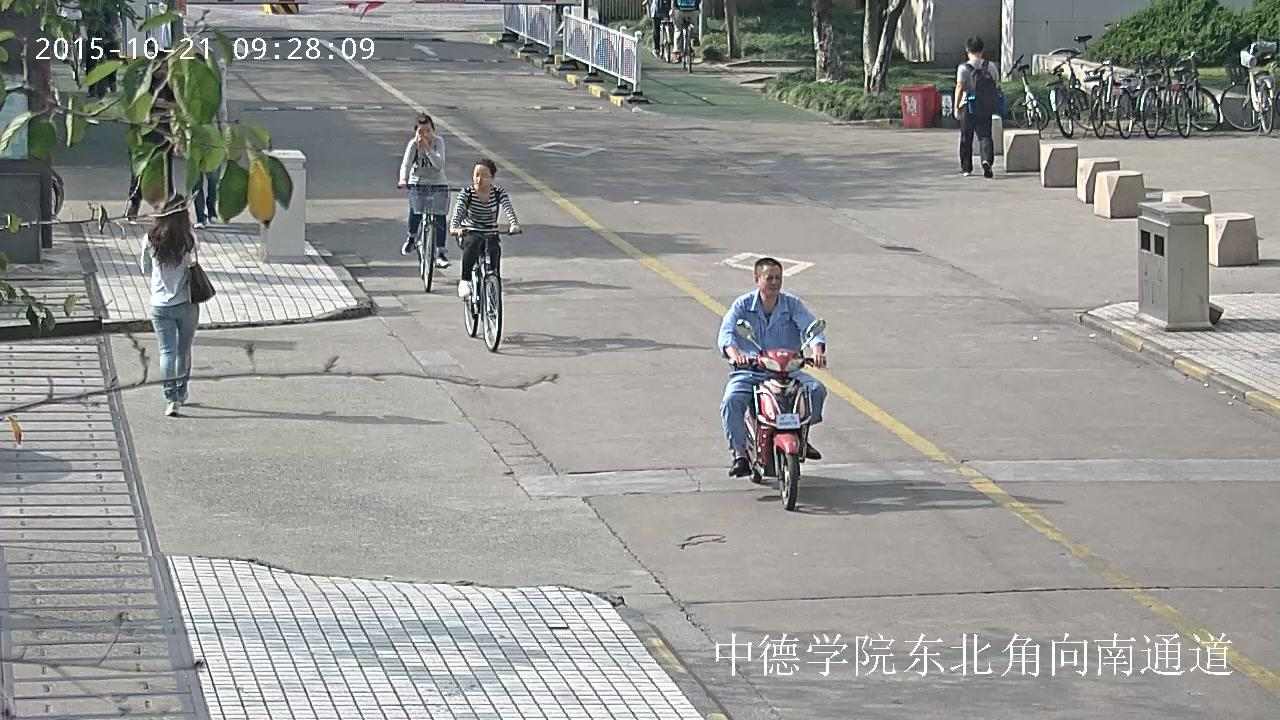face: (759, 264, 782, 295), (473, 164, 490, 187), (416, 123, 432, 143)
